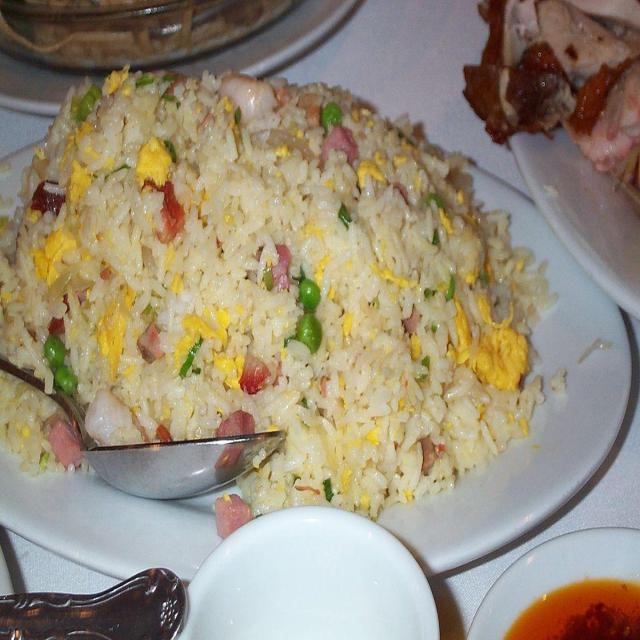Nasi Goreng: (8, 65, 554, 521)
